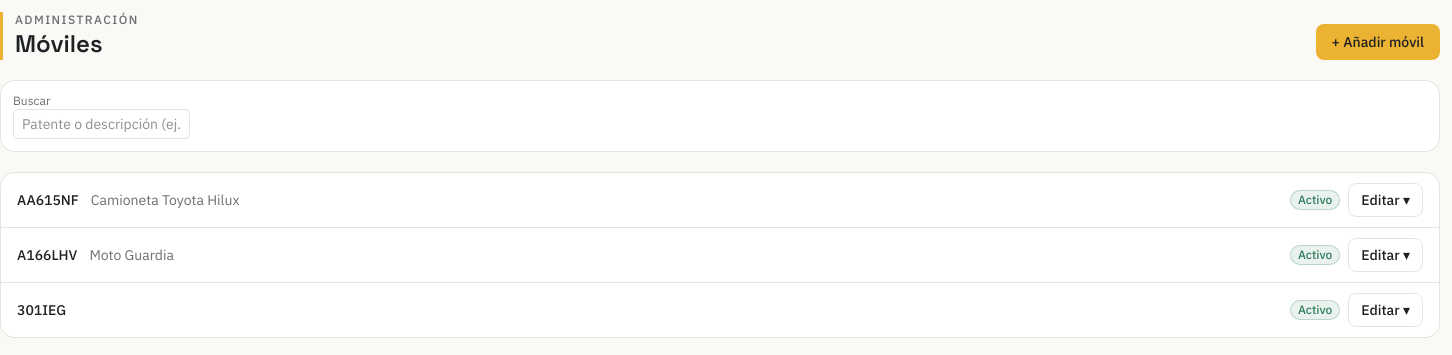
Test: MovilesAdminPage › búsqueda por patente y descripción › sin coincidencias avisa qué se buscó, distinto del listado vacío
Type "zzz" into the field named "Buscar móvil".
click(102, 124); type("zzz")  # box 13,109 -> 190,139
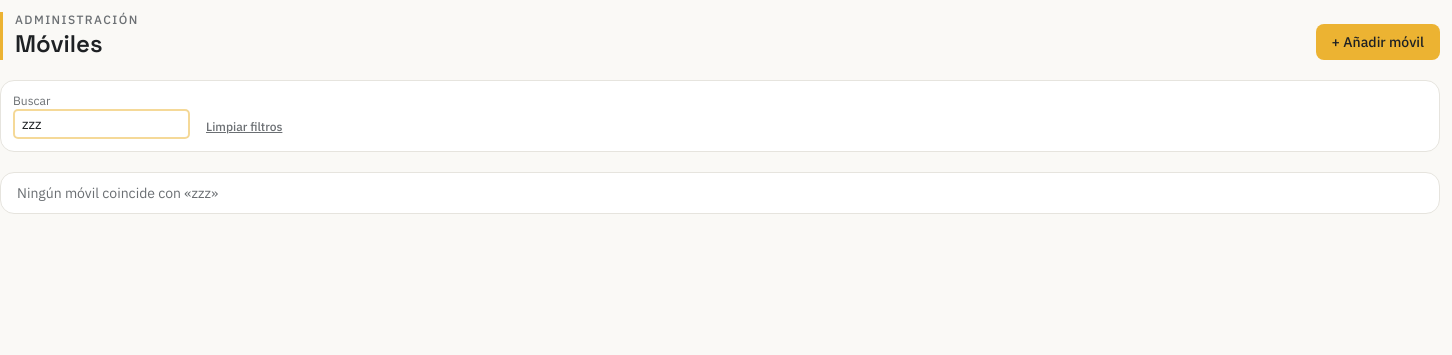
Result: the text "Ningún móvil coincide con «zzz»" is shown at 17,184 -> 218,202
